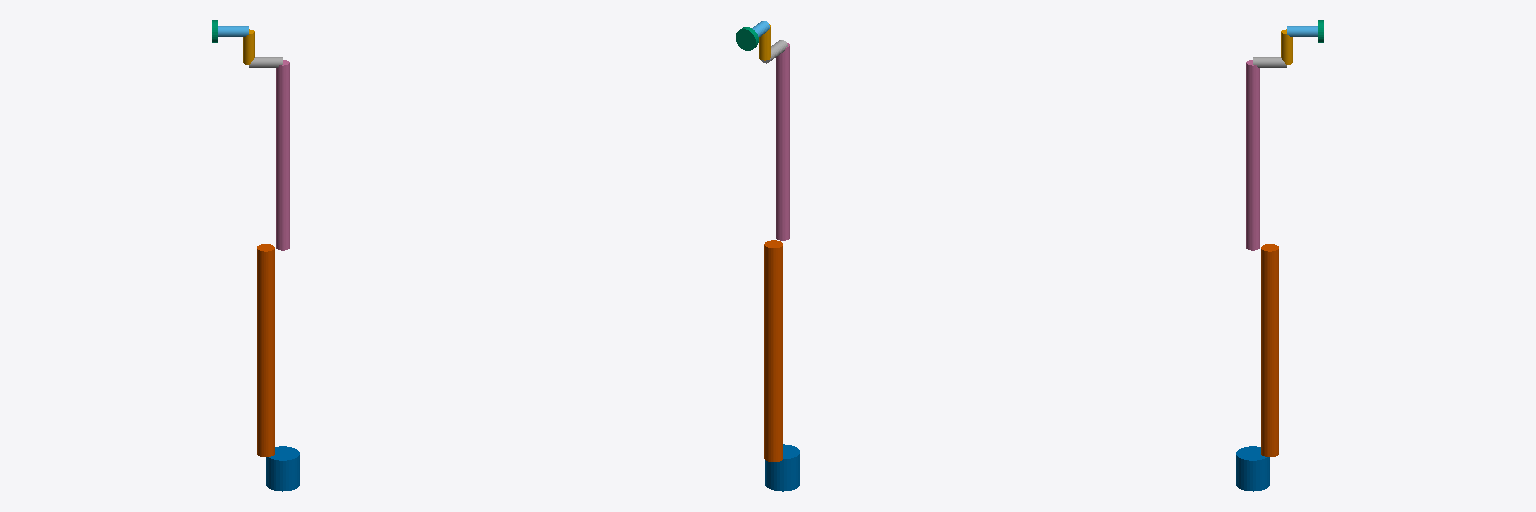
robot.urdf — universal_robot_extended:
<?xml version="1.0" ?>
<robot name="universal_robot_extended">

 <link name="world"/>

  <joint name="virtual_x_joint" type="prismatic">
    <parent link="world"/>
    <child link="dummy_x_link"/>
    <axis xyz="1 0 0"/>
    <limit effort="1000" lower="-10" upper="10" velocity="1.0"/>
  </joint>

  <link name="dummy_x_link"/>

  <joint name="virtual_y_joint" type="prismatic">
    <parent link="dummy_x_link"/>
    <child link="dummy_y_link"/>
    <axis xyz="0 1 0"/>
    <limit effort="1000" lower="-10" upper="10" velocity="1.0"/>
  </joint>

  <link name="dummy_y_link"/>

  <joint name="virtual_theta_joint" type="revolute">
    <parent link="dummy_y_link"/>
    <child link="base_link"/>
    <axis xyz="0 0 1"/>
    <limit effort="1000" lower="-3.14159" upper="3.14159" velocity="1.0"/>
  </joint>

  <link name="base_link"/>

  <joint name="shoulder_pan_joint" type="revolute">
    <parent link="base_link"/>
    <child link="shoulder_link"/>
    <origin rpy="0.0 0.0 0.0" xyz="0.0 0.0 0.3"/>
    <axis xyz="0.0 0.0 1.0"/>
    <limit effort="10.0" lower="-3.14" upper="3.14" velocity="1.0"/>
  </joint>

  <link name="shoulder_link">
    <visual>
      <geometry>
        <cylinder length="0.3" radius="0.15"/>
      </geometry>
      <origin rpy="0.0 0.0 0.0" xyz="0.0 0.0 -0.15"/>
    </visual>
    <collision>
      <geometry>
        <cylinder length="0.3" radius="0.15"/>
      </geometry>
      <origin rpy="0.0 0.0 0.0" xyz="0.0 0.0 -0.15"/>
    </collision>
  </link>

  <joint name="shoulder_lift_joint" type="revolute">
    <parent link="shoulder_link"/>
    <child link="upper_arm_link"/>
    <origin rpy="0.0 0.0 0.0" xyz="0.0 0.15 0.0"/>
    <axis xyz="0.0 1.0 0.0"/>
    <limit effort="10.0" lower="-3.14" upper="3.14" velocity="1.0"/>
  </joint>

  <link name="upper_arm_link">
    <visual>
      <geometry>
        <cylinder length="2.0" radius="0.08"/>
      </geometry>
      <origin rpy="0.0 0.0 0.0" xyz="0.0 0.0 1.0"/>
    </visual>
    <collision>
      <geometry>
        <cylinder length="2.0" radius="0.08"/>
      </geometry>
      <origin rpy="0.0 0.0 0.0" xyz="0.0 0.0 1.0"/>
    </collision>
  </link>

  <joint name="elbow_joint" type="revolute">
    <parent link="upper_arm_link"/>
    <child link="forearm_link"/>
    <origin rpy="0.0 0.0 0.0" xyz="0.0 -0.15 2.0"/>
    <axis xyz="0.0 -1.0 0.0"/>
    <limit effort="10.0" lower="-3.14" upper="3.14" velocity="1.0"/>
  </joint>

  <link name="forearm_link">
    <visual>
      <geometry>
        <cylinder length="1.8" radius="0.06"/>
      </geometry>
      <origin rpy="0.0 0.0 0.0" xyz="0.0 0.0 0.9"/>
    </visual>
    <collision>
      <geometry>
        <cylinder length="1.8" radius="0.06"/>
      </geometry>
      <origin rpy="0.0 0.0 0.0" xyz="0.0 0.0 0.9"/>
    </collision>
  </link>

  <joint name="wrist_1_joint" type="revolute">
    <parent link="forearm_link"/>
    <child link="wrist_1_link"/>
    <origin rpy="0.0 0.0 0.0" xyz="0.0 0.0 1.8"/>
    <axis xyz="0.0 1.0 0.0"/>
    <limit effort="10.0" lower="-3.14" upper="3.14" velocity="1.0"/>
  </joint>

  <link name="wrist_1_link">
    <visual>
      <geometry>
        <cylinder length="0.3" radius="0.05"/>
      </geometry>
      <origin rpy="-1.57 0.0 0.0" xyz="0.0 0.15 0.0"/>
    </visual>
    <collision>
      <geometry>
        <cylinder length="0.3" radius="0.05"/>
      </geometry>
      <origin rpy="-1.57 0.0 0.0" xyz="0.0 0.15 0.0"/>
    </collision>
  </link>

  <joint name="wrist_2_joint" type="revolute">
    <parent link="wrist_1_link"/>
    <child link="wrist_2_link"/>
    <origin rpy="0.0 0.0 0.0" xyz="0.0 0.3 0.0"/>
    <axis xyz="0.0 0.0 1.0"/>
    <limit effort="10.0" lower="-3.14" upper="3.14" velocity="1.0"/>
  </joint>

  <link name="wrist_2_link">
    <visual>
      <geometry>
        <cylinder length="0.3" radius="0.05"/>
      </geometry>
      <origin rpy="0.0 0.0 0.0" xyz="0.0 0.0 0.15"/>
    </visual>
    <collision>
      <geometry>
        <cylinder length="0.3" radius="0.05"/>
      </geometry>
      <origin rpy="0.0 0.0 0.0" xyz="0.0 0.0 0.15"/>
    </collision>
  </link>

  <joint name="wrist_3_joint" type="revolute">
    <parent link="wrist_2_link"/>
    <child link="wrist_3_link"/>
    <origin rpy="0.0 0.0 0.0" xyz="0.0 0.0 0.3"/>
    <axis xyz="0.0 1.0 0.0"/>
    <limit effort="10.0" lower="-3.14" upper="3.14" velocity="1.0"/>
  </joint>

  <link name="wrist_3_link">
    <visual>
      <geometry>
        <cylinder length="0.3" radius="0.05"/>
      </geometry>
      <origin rpy="-1.57 0.0 0.0" xyz="0.0 0.15 0.0"/>
    </visual>
    <collision>
      <geometry>
        <cylinder length="0.3" radius="0.05"/>
      </geometry>
      <origin rpy="-1.57 0.0 0.0" xyz="0.0 0.15 0.0"/>
    </collision>
  </link>

  <joint name="ee_fixed_joint" type="fixed">
    <parent link="wrist_3_link"/>
    <child link="ee_link"/>
    <origin rpy="0.0 0.0 1.57" xyz="0.0 0.3 0.0"/>
  </joint>

  <link name="ee_link">
    <visual>
      <geometry>
        <cylinder length="0.05" radius="0.1"/>
      </geometry>
      <origin rpy="0.0 -1.57 0.0" xyz="0.0 0.0 0.0"/>
    </visual>
    <collision>
      <geometry>
        <cylinder length="0.05" radius="0.1"/>
      </geometry>
      <origin rpy="0.0 -1.57 0.0" xyz="0.0 0.0 0.0"/>
    </collision>
  </link>

</robot>

--- Facts derived from the render (not from the file) ---
3 views of the same robot in one strip: view 1: azimuth 90°, elevation 25°; view 2: azimuth 150°, elevation 25°; view 3: azimuth 270°, elevation 25° (orthographic).
Robot: universal_robot_extended — 11 links, 10 joints (7 revolute, 2 prismatic, 1 fixed); root link world; default pose: all joints at 0.
Visible links, largest first — view 1: upper_arm_link, forearm_link, shoulder_link; view 2: upper_arm_link, forearm_link, shoulder_link; view 3: upper_arm_link, forearm_link, shoulder_link.
Boxes of the visible links, left/top/right/bottom form: upper_arm_link: left=257, top=244, right=274, bottom=456; forearm_link: left=276, top=60, right=289, bottom=250; shoulder_link: left=266, top=446, right=299, bottom=491; upper_arm_link: left=764, top=240, right=782, bottom=461; forearm_link: left=776, top=43, right=789, bottom=240; shoulder_link: left=765, top=444, right=799, bottom=491; upper_arm_link: left=1261, top=244, right=1278, bottom=456; forearm_link: left=1246, top=60, right=1259, bottom=250; shoulder_link: left=1236, top=446, right=1269, bottom=491.
Bounding box of the posed robot: 0.3 × 0.7751 × 4.5 m (x, y, z).
Geometry: primitives only (box / cylinder / sphere), no mesh files.
